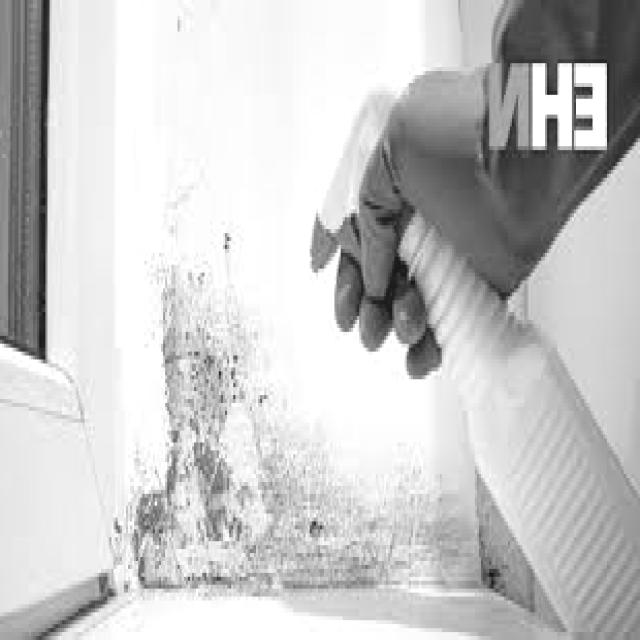stain marks: (92, 183, 516, 612)
